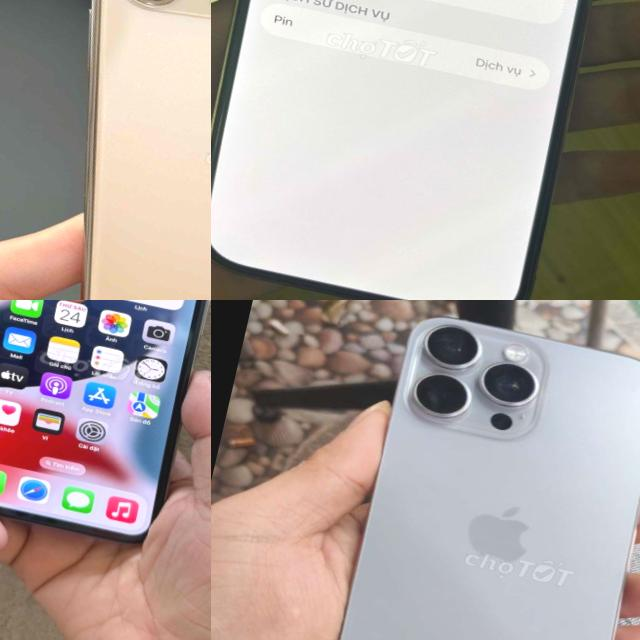gen_11: (0, 0, 211, 300)
gen_14: (211, 0, 640, 300)
gen_15: (295, 300, 640, 640)
gen_x_xs: (0, 300, 211, 552)
